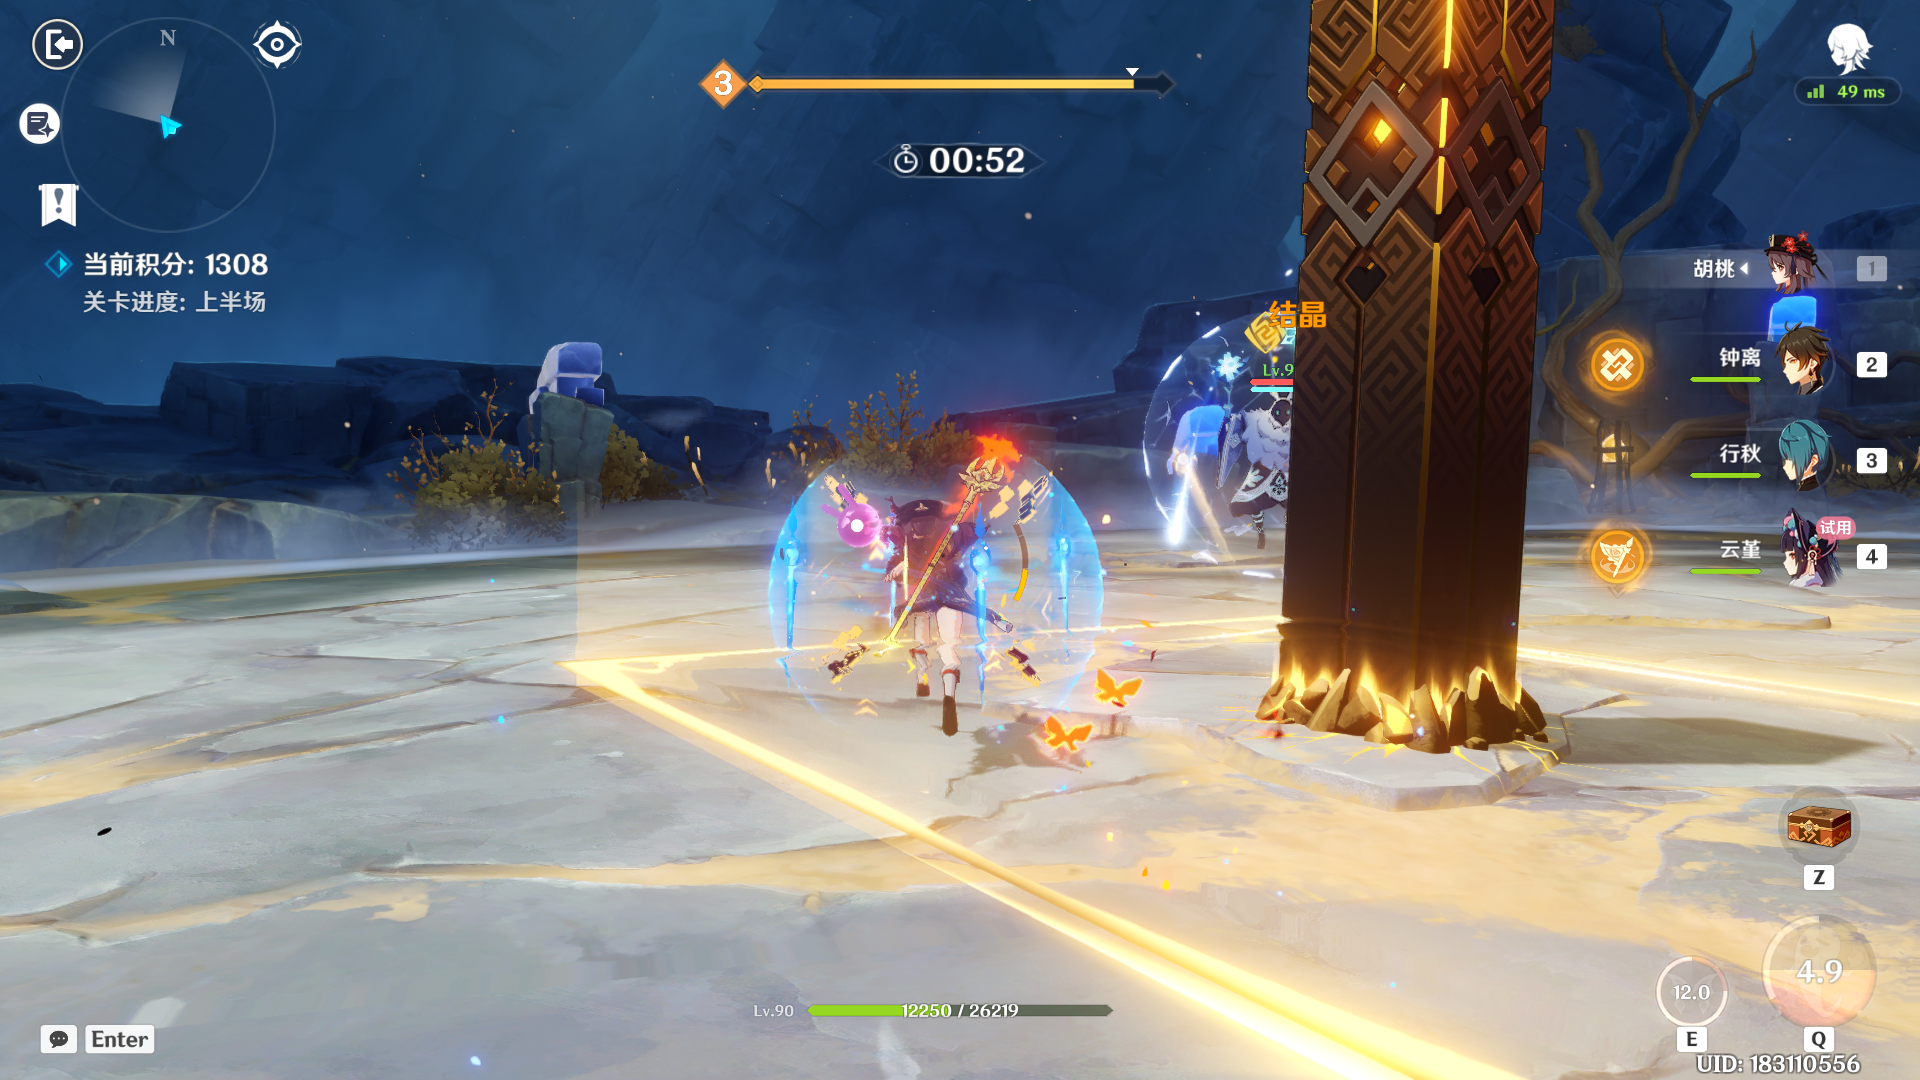caster: (1197, 364, 1370, 588)
character: (793, 440, 1069, 795)
